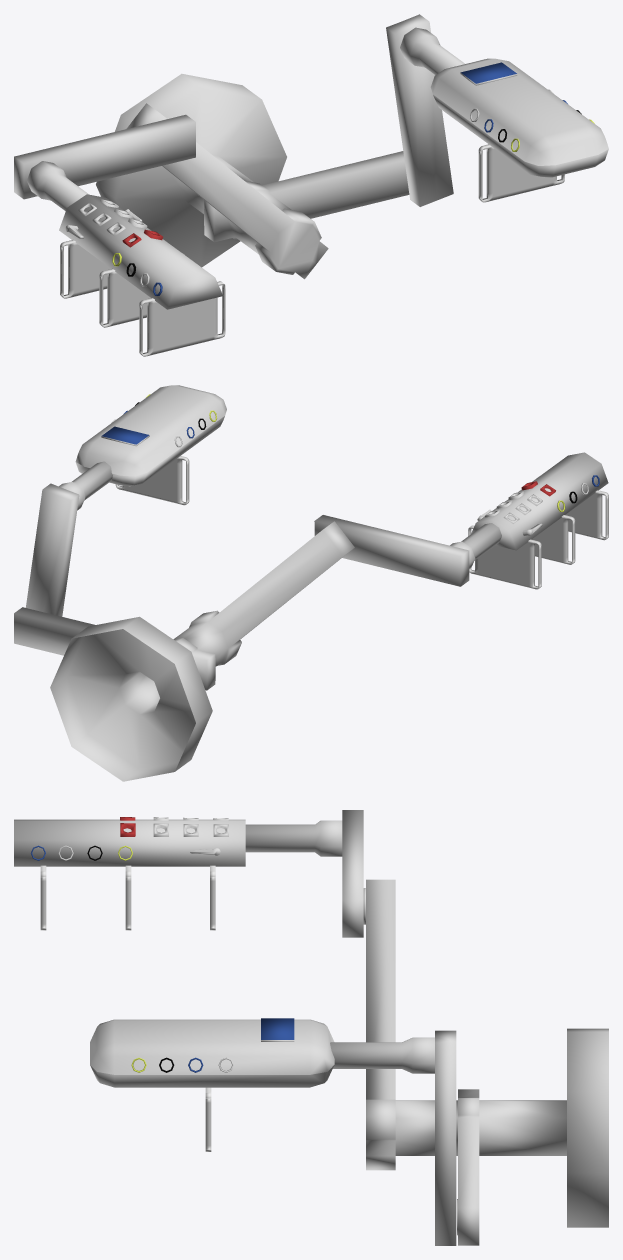
3 renders of one model, top to bottom at view 1: azimuth 30°, elevation 25°; view 2: azimuth 150°, elevation 25°; view 3: azimuth 270°, elevation 25°, orthographic. The views are drawn at different scales.
Parts seen in each view (by area): view 1: Cube.011; view 2: Cube.011; view 3: Cube.011.
Part boxes in pixels (box(x1,y1,x2,y2)): Cube.011: box(14, 14, 608, 356); Cube.011: box(14, 385, 608, 781); Cube.011: box(14, 810, 608, 1245).
Size of the model in its own units: 115 by 56.39 by 111.
